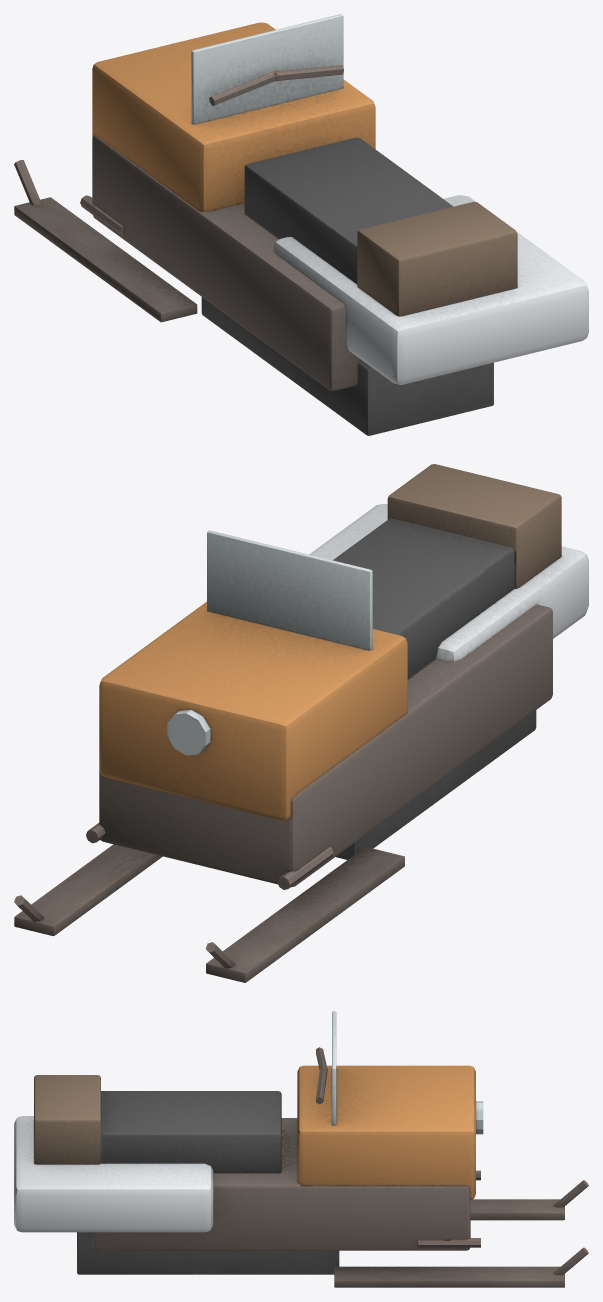
File: soviet_snowmobile.glb
The picture shows the model from 3 angles, top to bottom: view 1: azimuth 30°, elevation 25°; view 2: azimuth 150°, elevation 25°; view 3: azimuth 270°, elevation 25°; orthographic projection. The views are drawn at different scales.
Parts seen in each view (by area): view 1: soviet_snowmobile; view 2: soviet_snowmobile; view 3: soviet_snowmobile.
Boxes of the visible parts, left/top/right/bottom form: soviet_snowmobile: left=14, top=14, right=588, bottom=435; soviet_snowmobile: left=14, top=464, right=588, bottom=982; soviet_snowmobile: left=14, top=1011, right=588, bottom=1287.
Size of the model in its own units: 0.985 by 1.11 by 2.74.
1 material, 1 textured.
